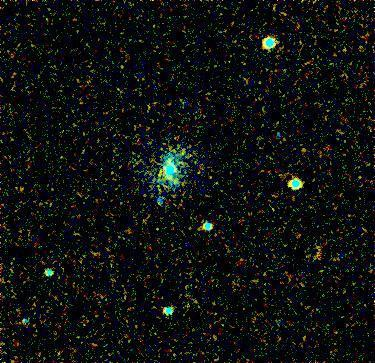star: (160, 163, 190, 193)
